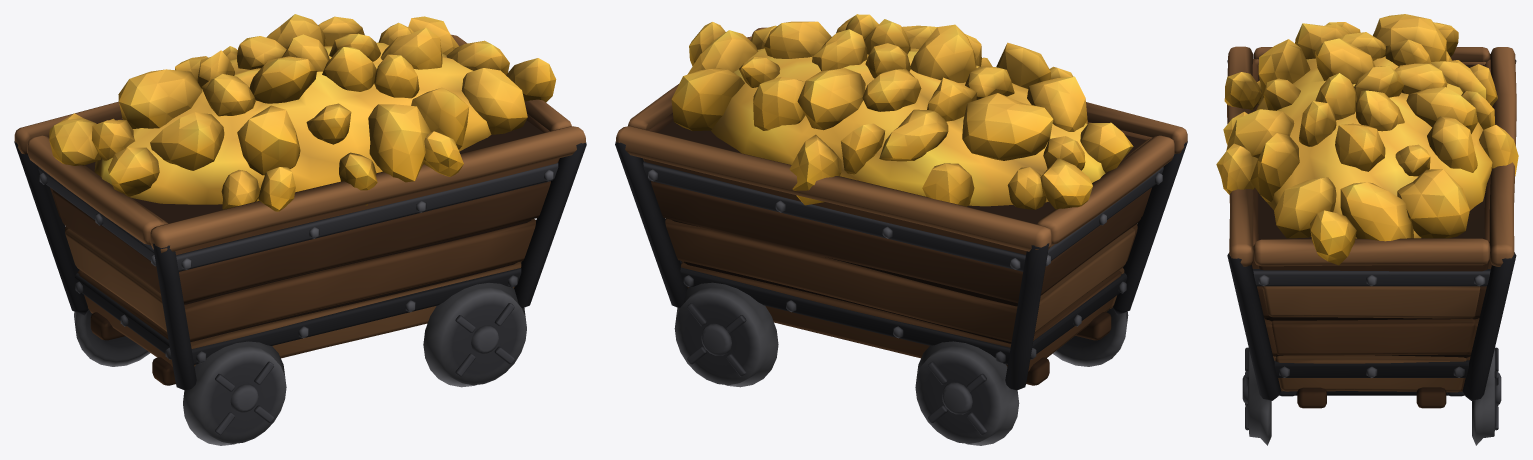
File: cart-skTPd7_s.glb
3 renders of one model, left to right at view 1: azimuth 30°, elevation 25°; view 2: azimuth 150°, elevation 25°; view 3: azimuth 270°, elevation 25°, orthographic. The views are drawn at different scales.
Parts seen in each view (by area): view 1: cart_gold, cart_wood, cart_iron; view 2: cart_wood, cart_gold, cart_iron; view 3: cart_gold, cart_wood, cart_iron.
Part boxes in pixels (<box>): cart_gold: <box>49,14,556,211</box>; cart_wood: <box>14,34,585,385</box>; cart_iron: <box>14,141,586,445</box>; cart_wood: <box>616,27,1187,385</box>; cart_gold: <box>671,14,1133,209</box>; cart_iron: <box>615,141,1187,445</box>; cart_gold: <box>1216,14,1518,265</box>; cart_wood: <box>1227,46,1516,408</box>; cart_iron: <box>1227,59,1516,445</box>.
Bounding box in the file's own units: 1 × 0.7291 × 0.6079.
